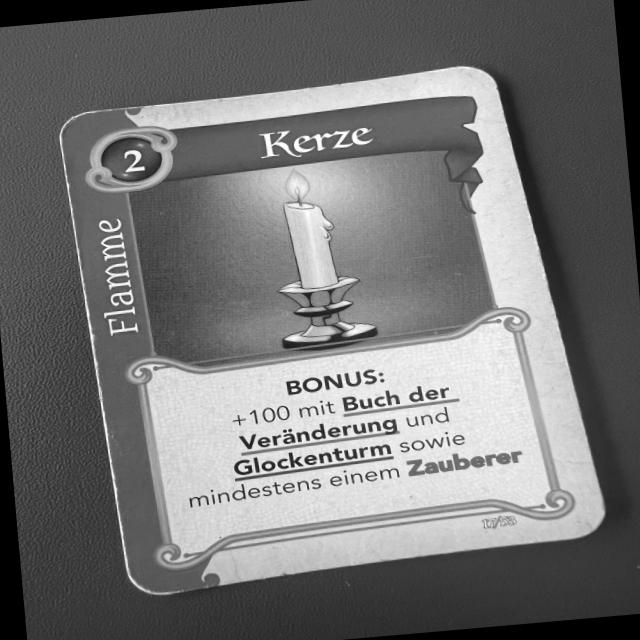Candle: (54, 60, 614, 602)
